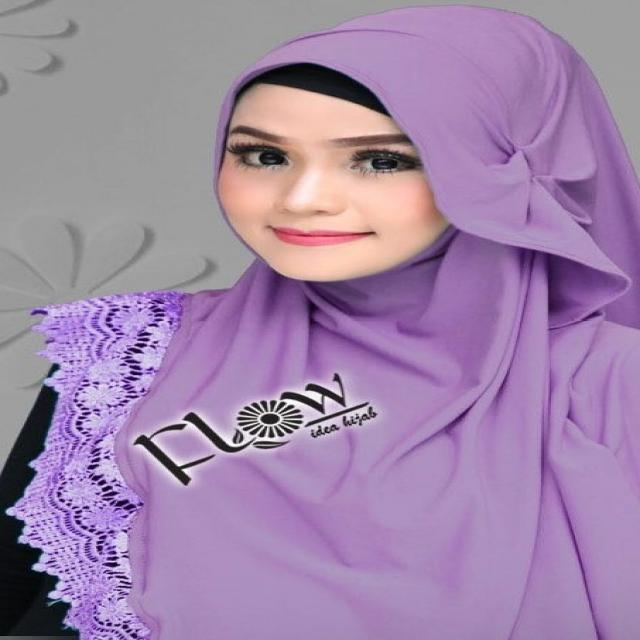head: (195, 1, 628, 292)
